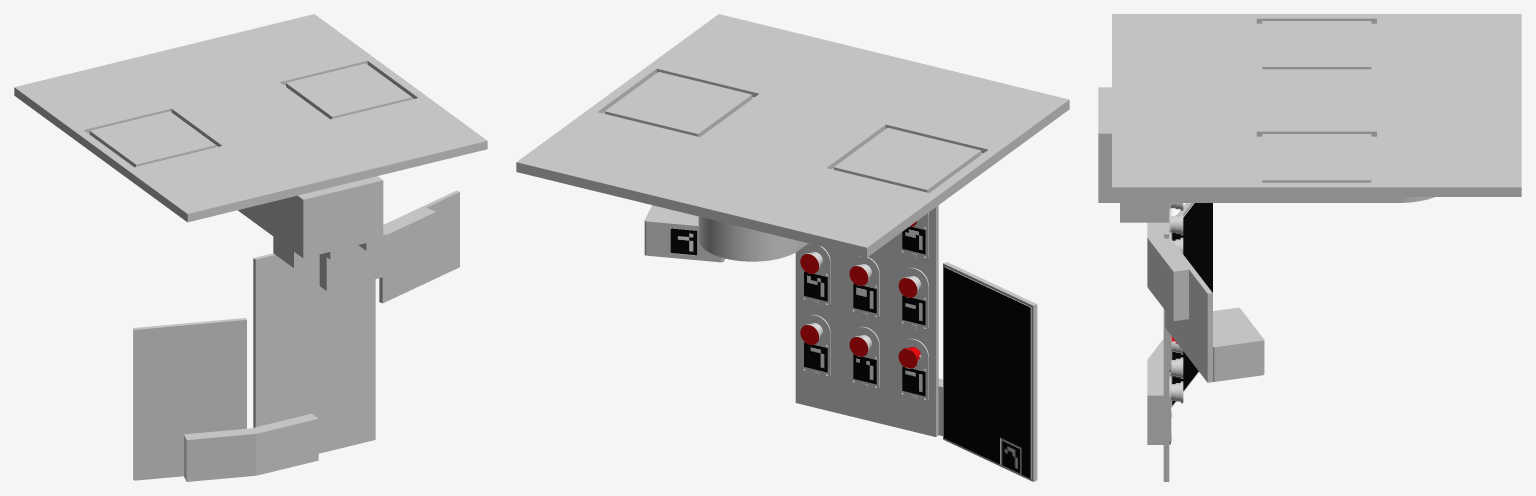
Rendered from environment.dae.
3 views of the same model, side by side, from view 1: azimuth 30°, elevation 25°; view 2: azimuth 150°, elevation 25°; view 3: azimuth 270°, elevation 25° (orthographic). The views are drawn at different scales.
Parts seen in each view (by area): view 1: Erc 11 013 Ambiente No Aruco; view 2: Erc 11 013 Ambiente No Aruco; view 3: Erc 11 013 Ambiente No Aruco.
Part boxes in pixels (box(x1,y1,x2,y2)): Erc 11 013 Ambiente No Aruco: box(14, 14, 487, 481); Erc 11 013 Ambiente No Aruco: box(516, 14, 1069, 481); Erc 11 013 Ambiente No Aruco: box(1098, 14, 1521, 481).
Bounding box in the file's own units: 815 × 775 × 700.
Materials: 15 (12 with a texture image).
